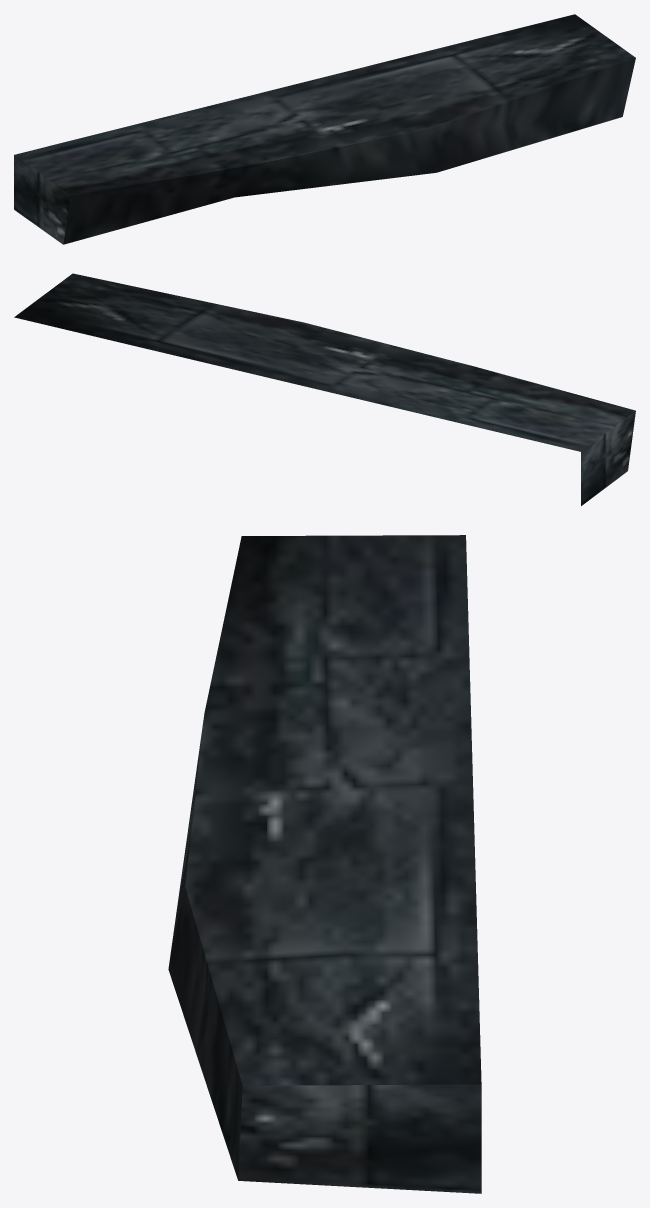
3 renders of one model, top to bottom at view 1: azimuth 30°, elevation 25°; view 2: azimuth 150°, elevation 25°; view 3: azimuth 270°, elevation 25°, orthographic. The views are drawn at different scales.
Visible parts, largest first — view 1: model_Object08; view 2: model_Object08; view 3: model_Object08.
Boxes of the visible parts, bbox=[...] form: model_Object08: bbox=[14, 14, 635, 244]; model_Object08: bbox=[14, 273, 635, 505]; model_Object08: bbox=[168, 535, 481, 1193].
Size of the model in its own units: 2.15 by 0.1993 by 0.5178.
Materials: 1 (1 with a texture image).
